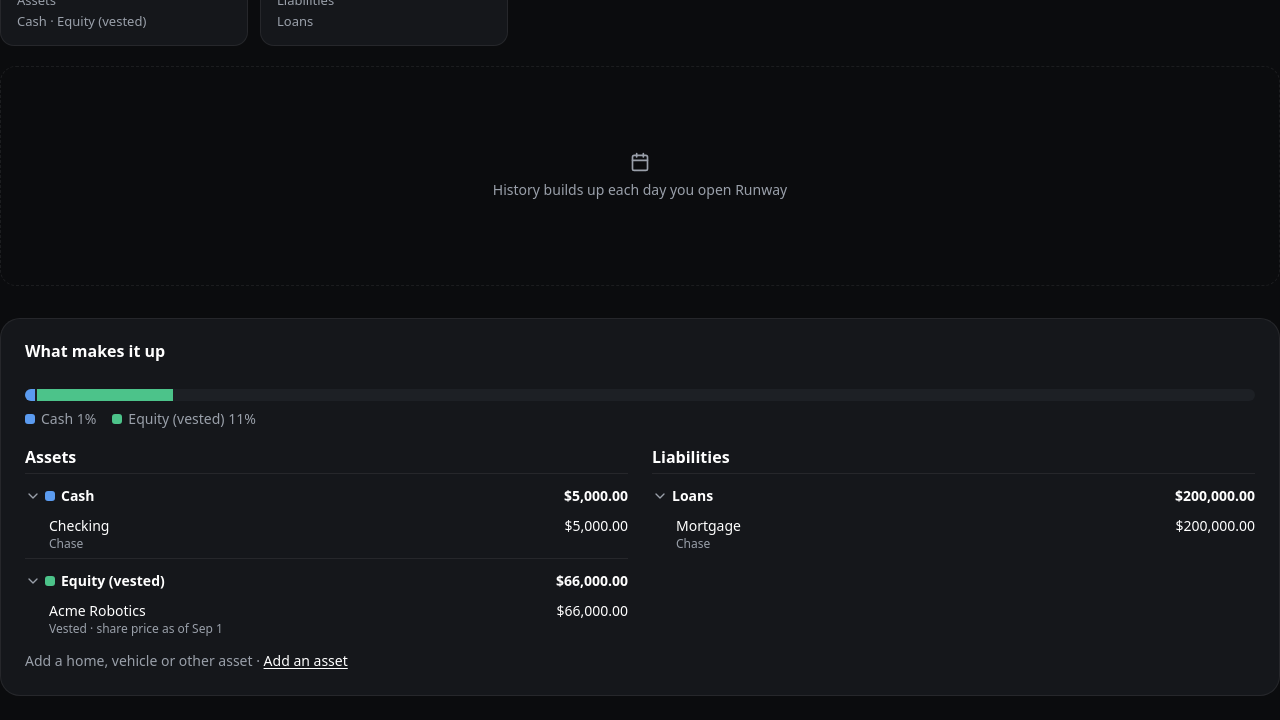
Test: the breakdown › prompts to add an asset when there are none
The image size is (1280, 720).
(page scrolled)
Expected: the text "Add a home, vehicle or other asset · Add an asset" is shown, [25,651,348,671]
Click the button "Add an asset" at coordinates (306, 661), box [264,651,348,671]
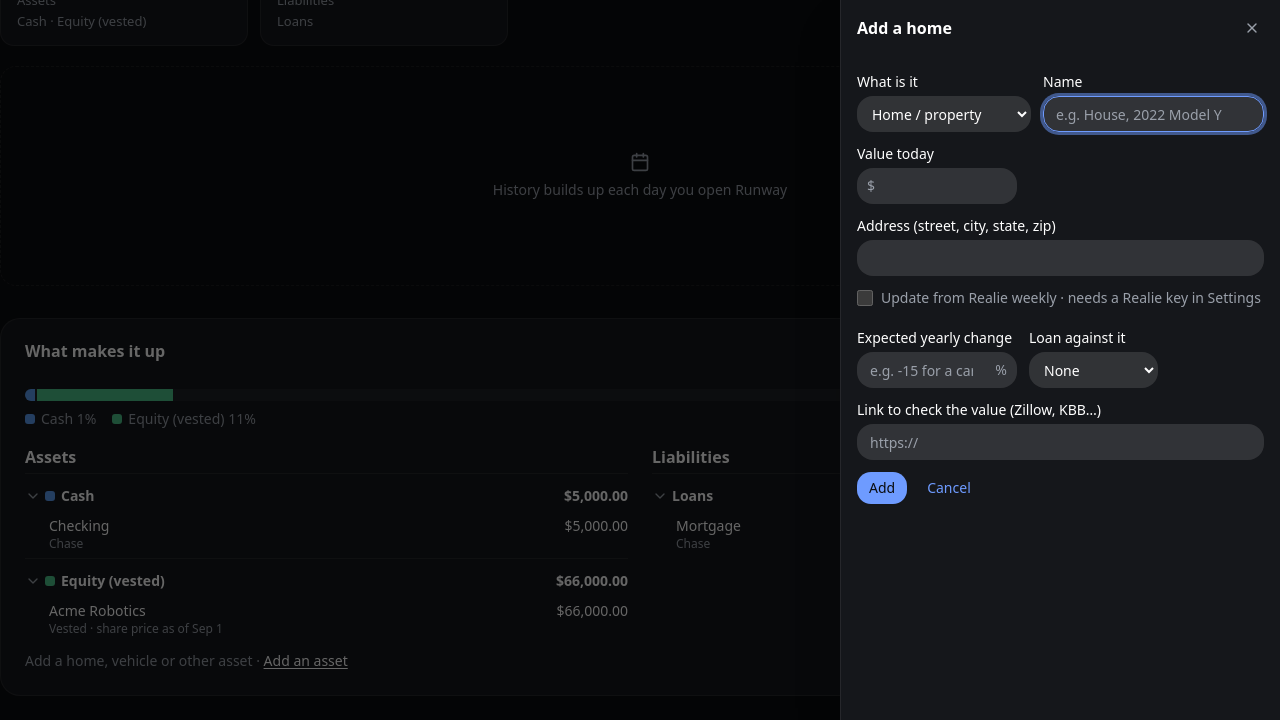
Result: the dialog "Add a home" is shown at [840,0,1279,719]
